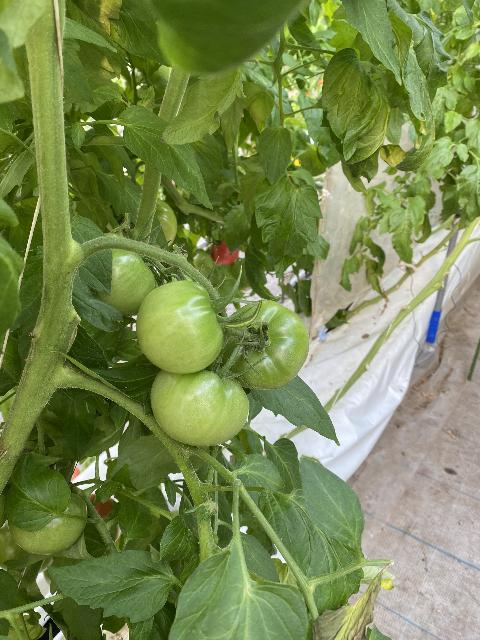b_green: (217, 299, 309, 390), (135, 281, 224, 375), (150, 368, 250, 448), (7, 492, 88, 555), (99, 232, 156, 317), (148, 197, 178, 252)
